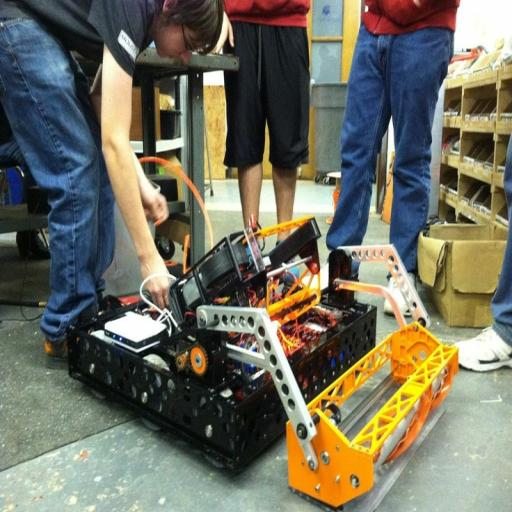robot: (64, 164, 461, 503)
